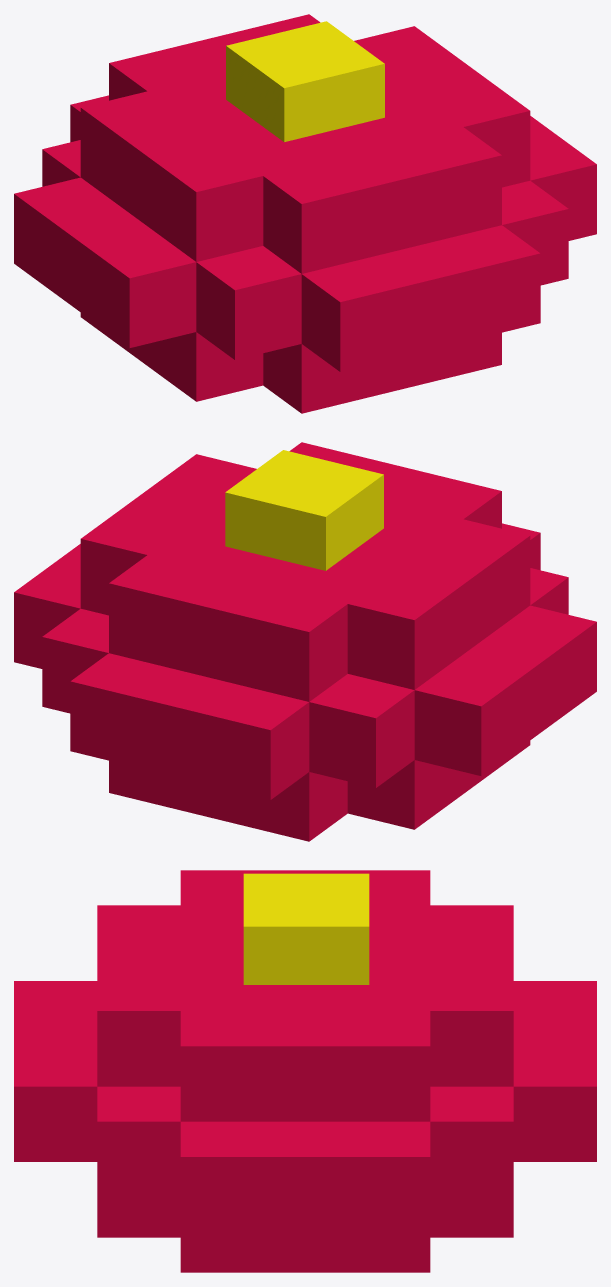
Rendered from fleur2.fbx.
3 renders of one model, top to bottom at view 1: azimuth 30°, elevation 25°; view 2: azimuth 150°, elevation 25°; view 3: azimuth 270°, elevation 25°, orthographic. The views are drawn at different scales.
Visible parts, largest first — view 1: Cube; view 2: Cube; view 3: Cube.
Boxes of the visible parts, left/top/right/bottom form: Cube: left=14, top=14, right=596, bottom=413; Cube: left=14, top=442, right=596, bottom=841; Cube: left=14, top=870, right=596, bottom=1272.
Bounding box in the file's own units: 83.37 × 44.93 × 83.37.
